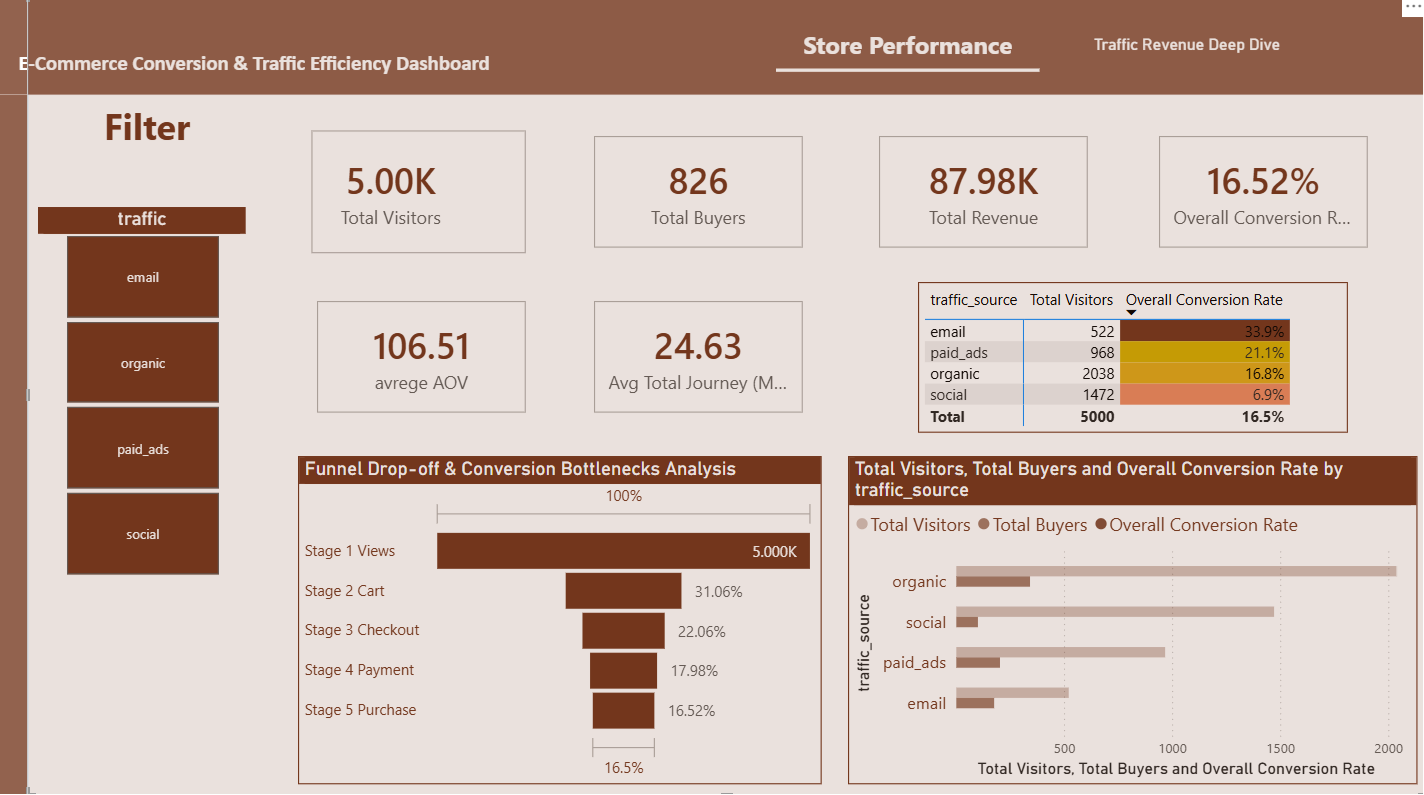

The dashboard page shown, as its layout file describes it:
{"tool":"powerbi","page":{"name":"Store Performance","canvas":[1280,720],"ordinal":0},"visuals":[{"type":"shape","box":[26,0,1253.7,719.1],"z":0},{"type":"shape","box":[0,0,1280,91],"z":1000},{"type":"shape","box":[0,91,26.3,628.5],"z":2000},{"type":"shape","box":[26.3,91,215,628.5],"z":3000},{"type":"textbox","box":[13.2,46.1,551.7,36.2],"z":4000},{"type":"cardVisual","fields":{"Data":["user_events.Total Visitors"]},"box":[268.7,110.8,221.6,134.9],"z":5000},{"type":"cardVisual","fields":{"Data":["user_events.Total Revenue"]},"box":[772.2,110.8,221.6,134.9],"z":6000},{"type":"cardVisual","fields":{"Data":["user_events.Total Buyers"]},"box":[516.6,110.8,221.6,134.9],"z":7000},{"type":"cardVisual","fields":{"Data":["user_events.Overall Conversion Rate"]},"box":[1022.2,110.8,221.6,134.9],"z":8000},{"type":"cardVisual","fields":{"Data":["user_events.avrege AOV"]},"box":[268.7,258.9,221.6,134.9],"z":9000},{"type":"cardVisual","fields":{"Data":["user_events.Avg Total Journey (Minutes)"]},"box":[516.6,258.9,221.6,134.9],"z":10000},{"type":"textbox","box":[26.3,91,215,62.5],"z":11000},{"type":"funnel","title":"Funnel Drop-off & Conversion Bottlenecks Analysis","fields":{"Y":["user_events.Stage 1 Views","user_events.Stage 2 Cart","user_events.Stage 3 Checkout","user_events.Stage 4 Payment","user_events.Stage 5 Purchase"]},"box":[268.7,414.6,469.4,294],"z":12000},{"type":"clusteredBarChart","fields":{"Category":["user_events.traffic_source"],"Y":["user_events.Total Visitors","user_events.Total Buyers","user_events.Overall Conversion Rate"]},"box":[761.5,415,510.2,293.9],"z":13000},{"type":"pivotTable","fields":{"Rows":["user_events.traffic_source"],"Values":["user_events.Total Visitors","user_events.Overall Conversion Rate"]},"box":[823.9,258.8,385.1,135.2],"z":14000},{"type":"slicer","title":"traffic","fields":{"Values":["user_events.traffic_source"]},"box":[35.6,191.9,186.1,335.5],"z":15000},{"type":"pageNavigator","box":[696.3,20.7,486,50.6],"z":16000}]}

Visuals, with their boxes on the page's 1280x720 design canvas (x1, y1, x2, y2). These are canvas units, not pixel positions in the 1424x795 screenshot, which may show the page scaled, cropped or inside an application window:
shape: locate(26, 0, 1280, 719)
shape: locate(0, 0, 1280, 91)
shape: locate(0, 91, 26, 720)
shape: locate(26, 91, 241, 720)
textbox: locate(13, 46, 565, 82)
cardVisual - user_events.Total Visitors: locate(269, 111, 490, 246)
cardVisual - user_events.Total Revenue: locate(772, 111, 994, 246)
cardVisual - user_events.Total Buyers: locate(517, 111, 738, 246)
cardVisual - user_events.Overall Conversion Rate: locate(1022, 111, 1244, 246)
cardVisual - user_events.avrege AOV: locate(269, 259, 490, 394)
cardVisual - user_events.Avg Total Journey (Minutes): locate(517, 259, 738, 394)
textbox: locate(26, 91, 241, 154)
"Funnel Drop-off & Conversion Bottlenecks Analysis" funnel: locate(269, 415, 738, 709)
clusteredBarChart - user_events.traffic_source x user_events.Total Visitors: locate(762, 415, 1272, 709)
pivotTable - user_events.traffic_source x user_events.Total Visitors: locate(824, 259, 1209, 394)
"traffic" slicer: locate(36, 192, 222, 527)
pageNavigator: locate(696, 21, 1182, 71)
